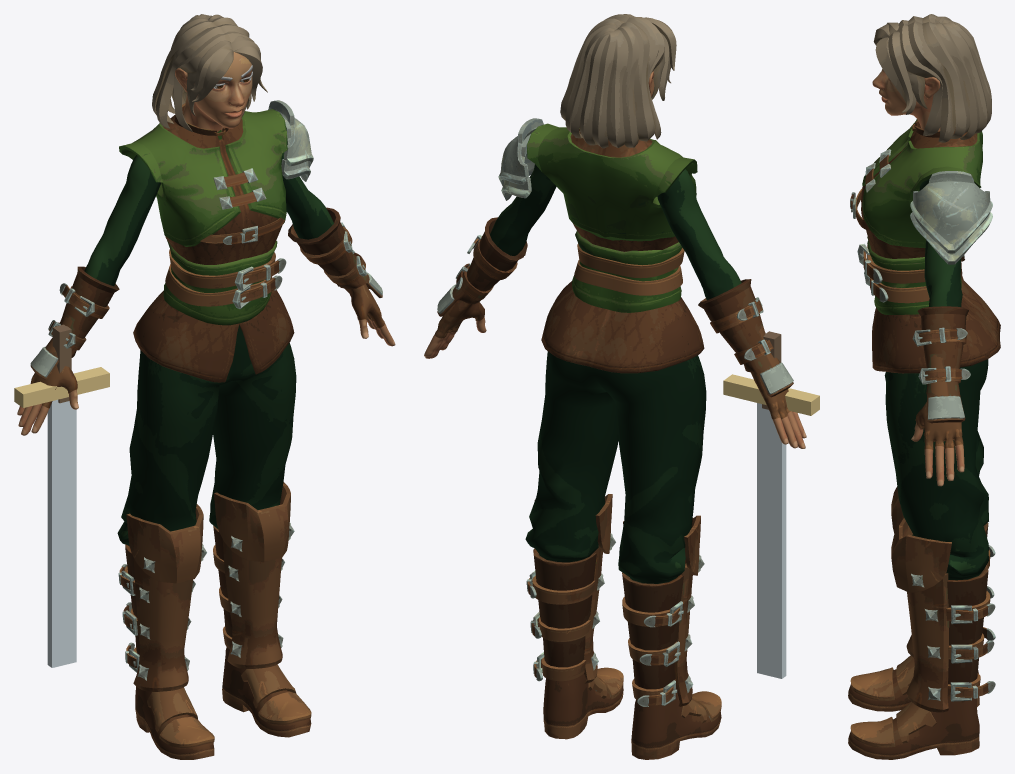
File: slots-combined.glb
The picture shows the model from 3 angles, left to right: view 1: azimuth 30°, elevation 25°; view 2: azimuth 150°, elevation 25°; view 3: azimuth 270°, elevation 25°; orthographic projection.
Visible parts, largest first — view 1: Female_Ranger_Feet, Female_Ranger_Body, Female_Ranger_Legs, Female_Ranger_Arms (×2), weapon_blade, Hair_Long, Female_Ranger_Arms_Bracer, Superhero_Female, Female_Ranger_Body_Belt_2, Female_Ranger_Body_Belt_1, Female_Ranger_Acc_Pauldrons, weapon_guard (+1 smaller); view 2: Female_Ranger_Legs, Female_Ranger_Body, Female_Ranger_Feet, Hair_Long, Female_Ranger_Arms (×2), Female_Ranger_Arms_Bracer, weapon_blade, Female_Ranger_Acc_Pauldrons, Female_Ranger_Body_Belt_2, weapon_guard, Female_Ranger_Body_Belt_1; view 3: Female_Ranger_Feet, Female_Ranger_Body, Female_Ranger_Legs, Hair_Long, Female_Ranger_Acc_Pauldrons, Female_Ranger_Arms_Bracer, Female_Ranger_Arms (×2), Superhero_Female, Female_Ranger_Body_Belt_1, Female_Ranger_Body_Belt_2.
Boxes of the visible parts, left/top/right/bottom form: Female_Ranger_Feet: left=118, top=482, right=311, bottom=759; Female_Ranger_Body: left=119, top=103, right=294, bottom=382; Female_Ranger_Legs: left=117, top=325, right=296, bottom=546; Female_Ranger_Arms (×2): left=17, top=152, right=395, bottom=435; weapon_blade: left=47, top=399, right=76, bottom=667; Hair_Long: left=152, top=14, right=267, bottom=131; Female_Ranger_Arms_Bracer: left=30, top=207, right=382, bottom=379; Superhero_Female: left=175, top=52, right=252, bottom=132; Female_Ranger_Body_Belt_2: left=165, top=264, right=282, bottom=308; Female_Ranger_Body_Belt_1: left=169, top=249, right=286, bottom=290; Female_Ranger_Acc_Pauldrons: left=268, top=100, right=313, bottom=181; weapon_guard: left=14, top=367, right=109, bottom=407; Female_Ranger_Legs: left=525, top=351, right=706, bottom=583; Female_Ranger_Body: left=527, top=123, right=704, bottom=373; Female_Ranger_Feet: left=526, top=494, right=721, bottom=759; Hair_Long: left=560, top=14, right=676, bottom=148; Female_Ranger_Arms (×2): left=424, top=164, right=806, bottom=448; Female_Ranger_Arms_Bracer: left=437, top=217, right=793, bottom=397; weapon_blade: left=757, top=403, right=786, bottom=678; Female_Ranger_Acc_Pauldrons: left=498, top=118, right=543, bottom=200; Female_Ranger_Body_Belt_2: left=574, top=260, right=682, bottom=295; weapon_guard: left=723, top=374, right=819, bottom=415; Female_Ranger_Body_Belt_1: left=577, top=243, right=684, bottom=278; Female_Ranger_Feet: left=848, top=486, right=995, bottom=759; Female_Ranger_Body: left=850, top=119, right=1000, bottom=373; Female_Ranger_Legs: left=884, top=359, right=988, bottom=580; Hair_Long: left=873, top=14, right=991, bottom=142; Female_Ranger_Acc_Pauldrons: left=910, top=171, right=992, bottom=264; Female_Ranger_Arms_Bracer: left=912, top=255, right=970, bottom=423; Female_Ranger_Arms (×2): left=911, top=178, right=964, bottom=486; Superhero_Female: left=872, top=69, right=940, bottom=130; Female_Ranger_Body_Belt_1: left=857, top=243, right=925, bottom=283; Female_Ranger_Body_Belt_2: left=864, top=272, right=929, bottom=303.
Size of what is drawn, in the model's own units: 1.01 by 1.78 by 0.3491.
Materials: 16 (13 with a texture image).
